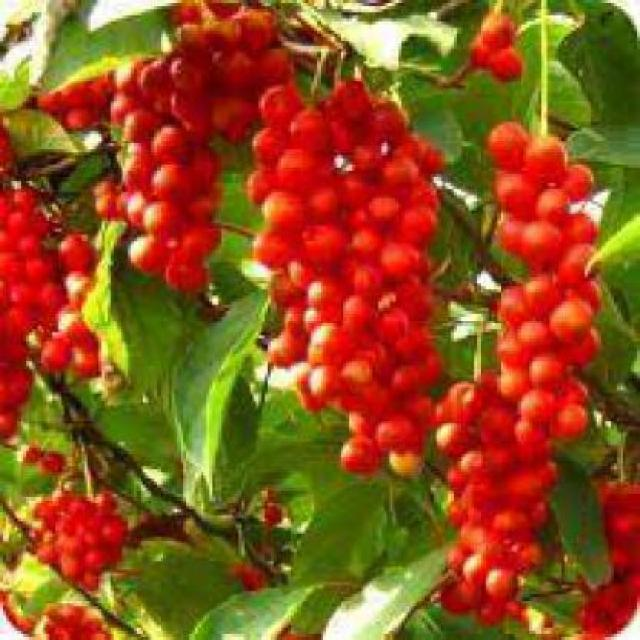RIPE: (451, 125, 605, 616), (255, 92, 434, 449), (105, 12, 248, 308), (0, 167, 78, 420), (38, 479, 125, 563)
